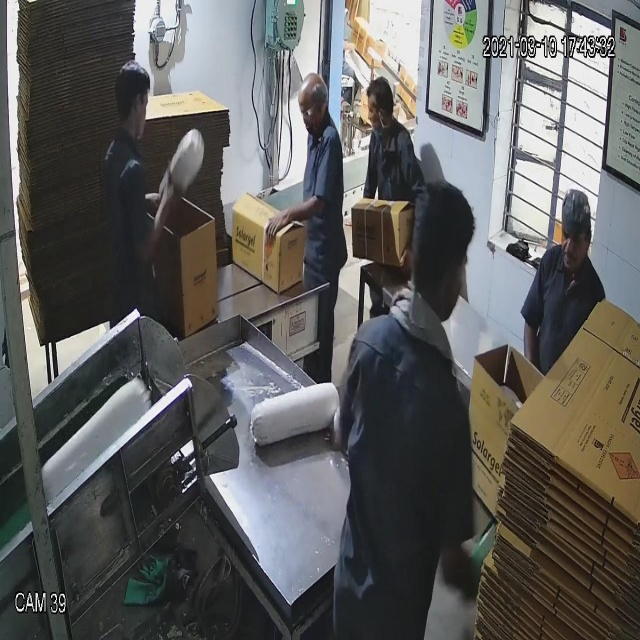Sin_guantes: (122, 173, 182, 266), (261, 190, 335, 244)
